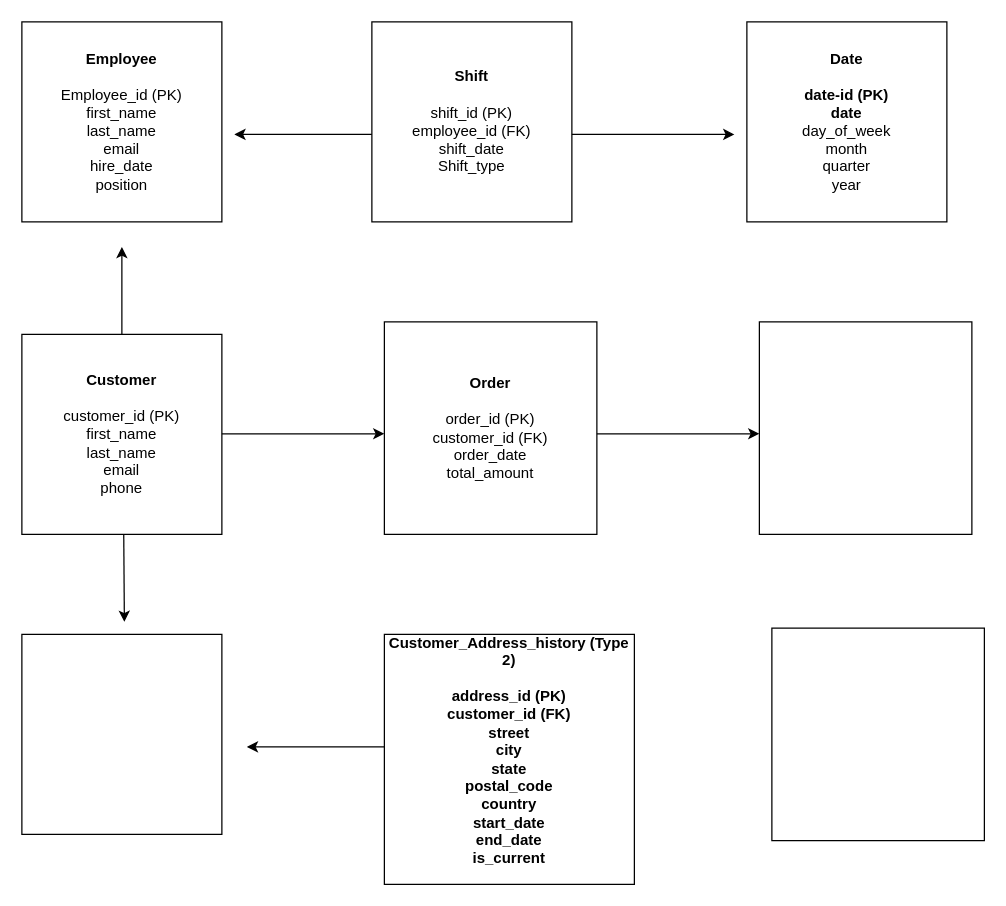
Image size: 1006x906. Some labels were removed from this diagram. The shapes that lost their labels are listed below. From the top down, each one's box as (x1, y1, x2, y2) in pixels, then its label:
(758, 321, 972, 534): Sales sale_id (PK) order_id (FK) book_id (FK) quantity unit_price
(21, 633, 222, 834): Customer Address (Type 1) Customer_id (PK) street city state postal_code country
(771, 627, 984, 841): Book book_id (PK) title author genre price publisher publication_date
